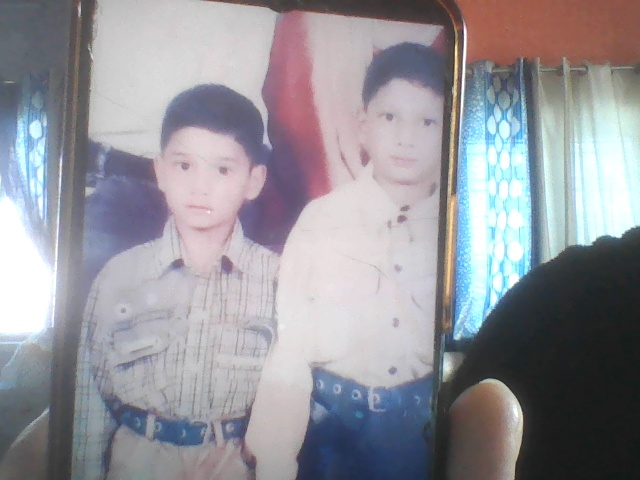fake: (164, 99, 261, 236)
